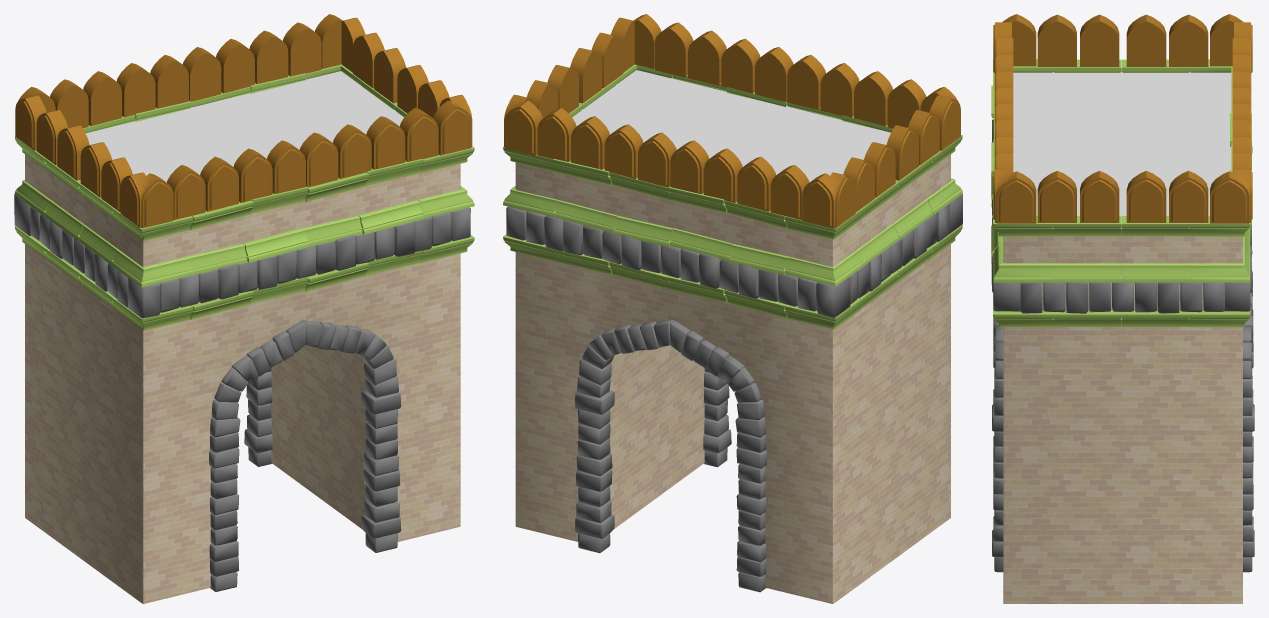
File: SM_citygate_castle.fbx
3 views of the same model, side by side, from view 1: azimuth 30°, elevation 25°; view 2: azimuth 150°, elevation 25°; view 3: azimuth 270°, elevation 25° (orthographic).
Parts seen in each view (by area): view 1: Object32713; view 2: Object32713; view 3: Object32713.
Boxes of the visible parts, x1=… form: Object32713: x1=14, y1=14, x2=474, y2=603; Object32713: x1=503, y1=14, x2=962, y2=603; Object32713: x1=991, y1=14, x2=1254, y2=603.
Size of the model in its own units: 403 by 491 by 272.
